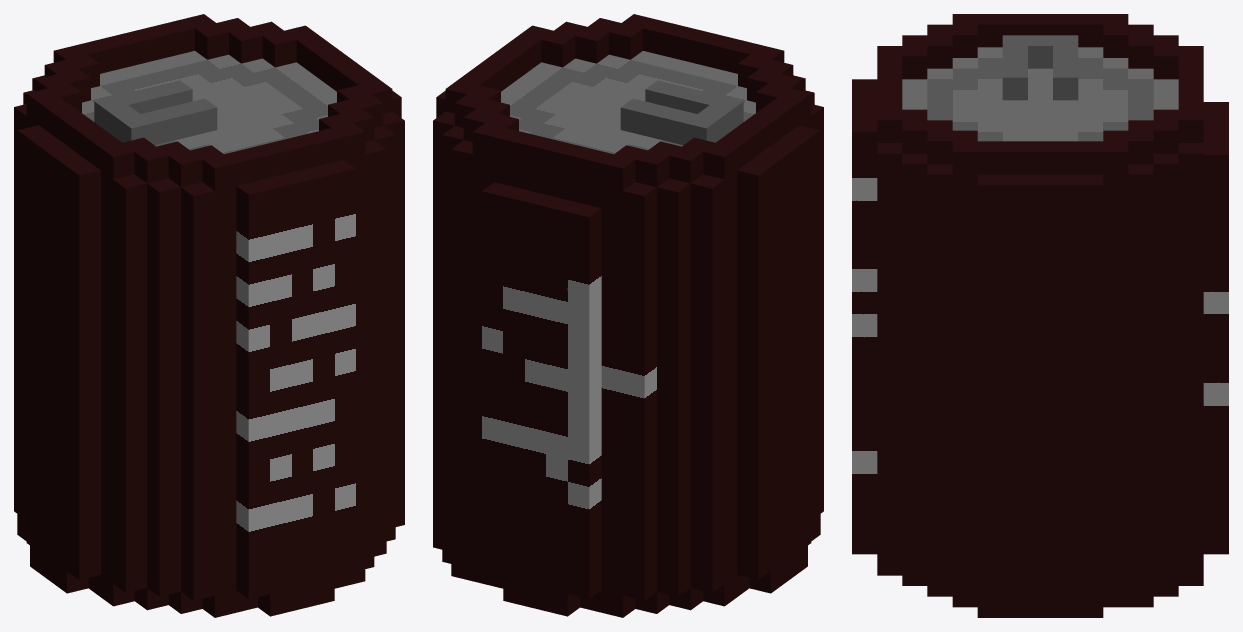
Rendered from puszka_ulbiony_napuj.dae.
3 renders of one model, left to right at view 1: azimuth 30°, elevation 25°; view 2: azimuth 150°, elevation 25°; view 3: azimuth 270°, elevation 25°, orthographic.
Parts seen in each view (by area): view 1: Content; view 2: Content; view 3: Content.
Boxes of the visible parts, x1,y1,x2,y2 form: Content: (14,14,404,617); Content: (433,14,823,617); Content: (852,14,1228,617).
Size of the model in its own units: 15 by 20 by 15.
Materials: 1 (1 with a texture image).
